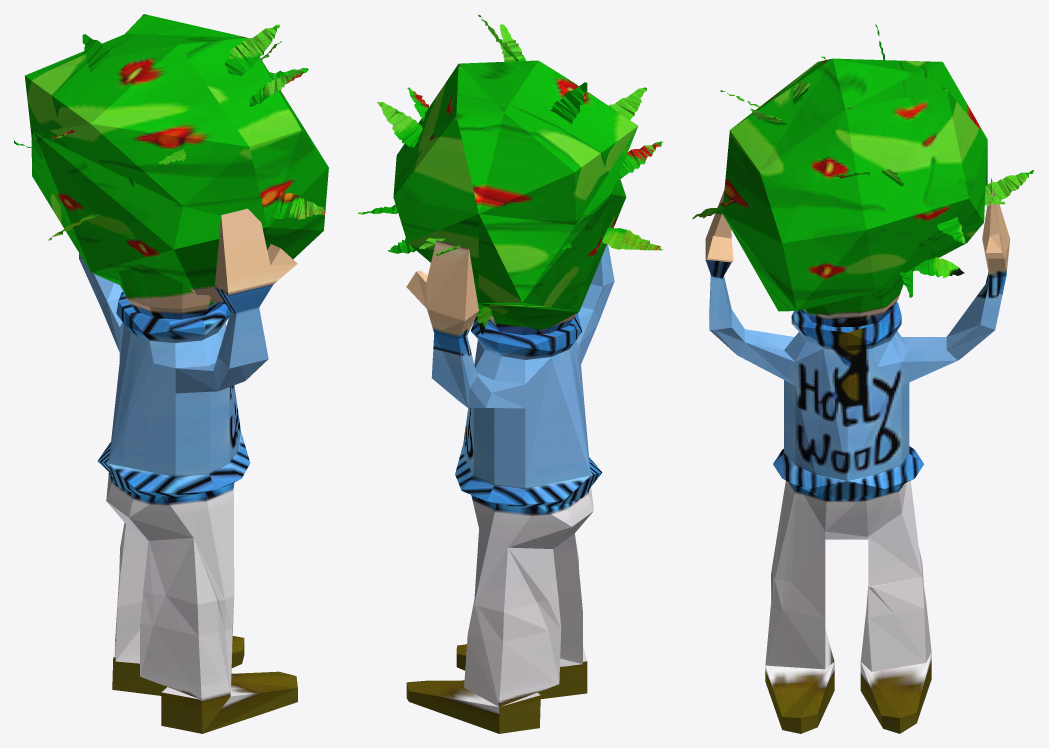
File: PipBush.glb
The picture shows the model from 3 angles, left to right: view 1: azimuth 30°, elevation 25°; view 2: azimuth 150°, elevation 25°; view 3: azimuth 270°, elevation 25°; orthographic projection. The views are drawn at different scales.
Visible parts, largest first — view 1: PipBush; view 2: PipBush; view 3: PipBush.
Boxes of the visible parts, x1,y1,x2,y2 form: PipBush: (14,14,328,733); PipBush: (357,14,662,733); PipBush: (692,24,1034,733).
Size of the model in its own units: 50.72 by 124 by 59.68.
1 material, 1 textured.
